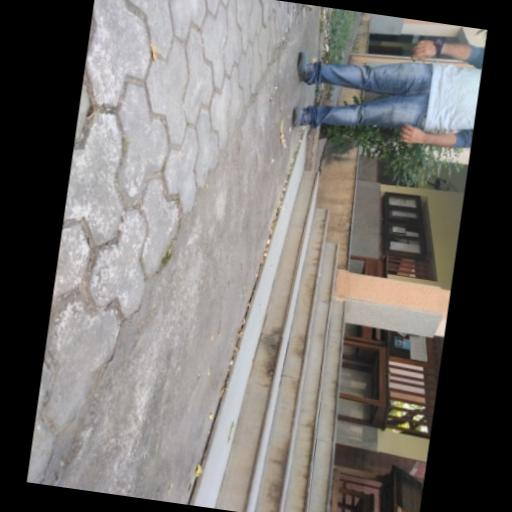stairs: (214, 170, 344, 511)
